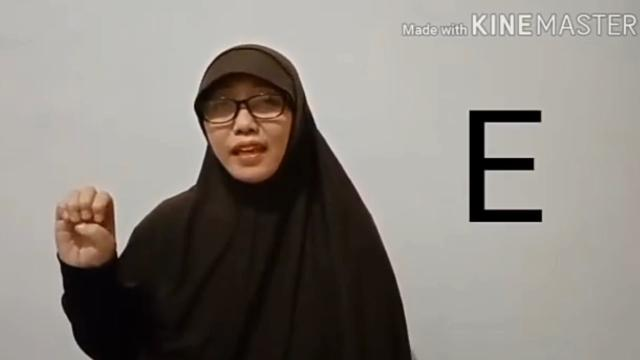E: (54, 185, 118, 268)
